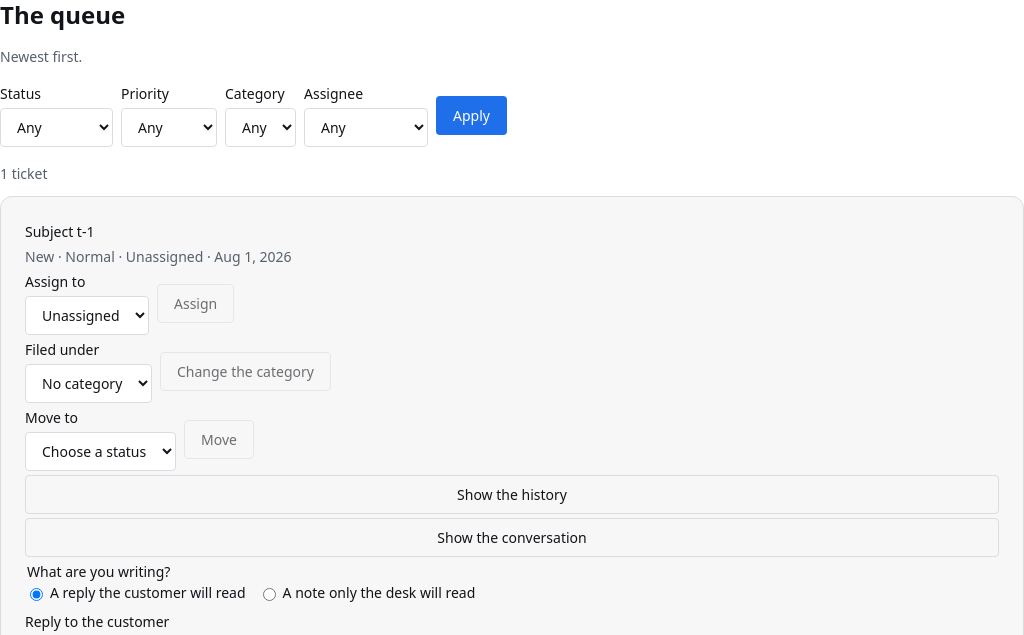
Scenario: a refusal from the machine is reported as itself
The image size is (1024, 635).
Expected: the text "Subject t-1" is shown, [25,222,94,241]
Select "Open" in the dropdown labelled "Move to" at (100, 452), box [25,432,176,471]
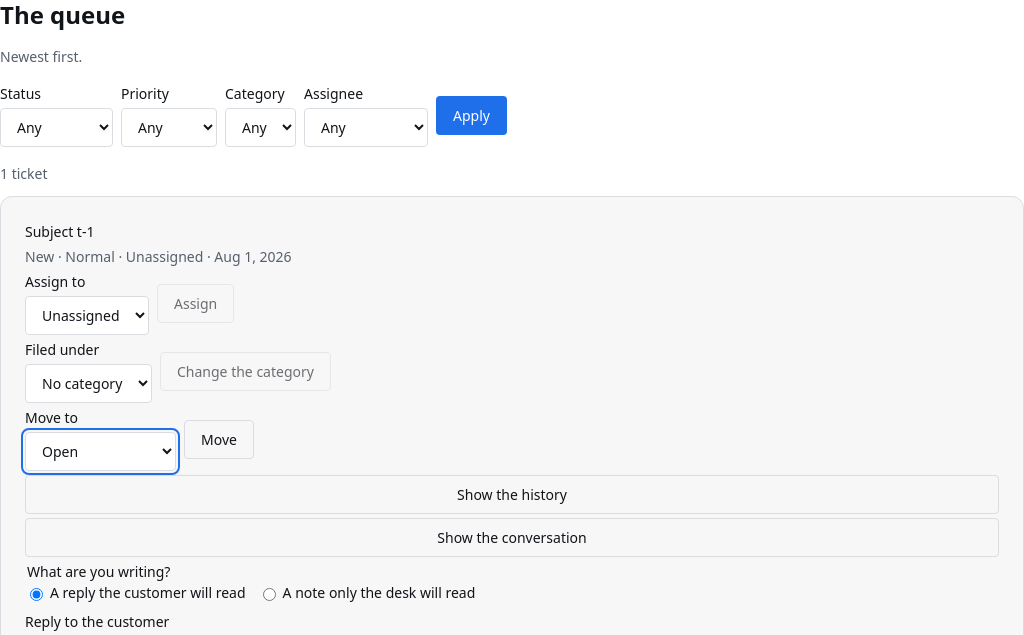
Click the button "Move" at (219, 439), box [184,420,254,458]
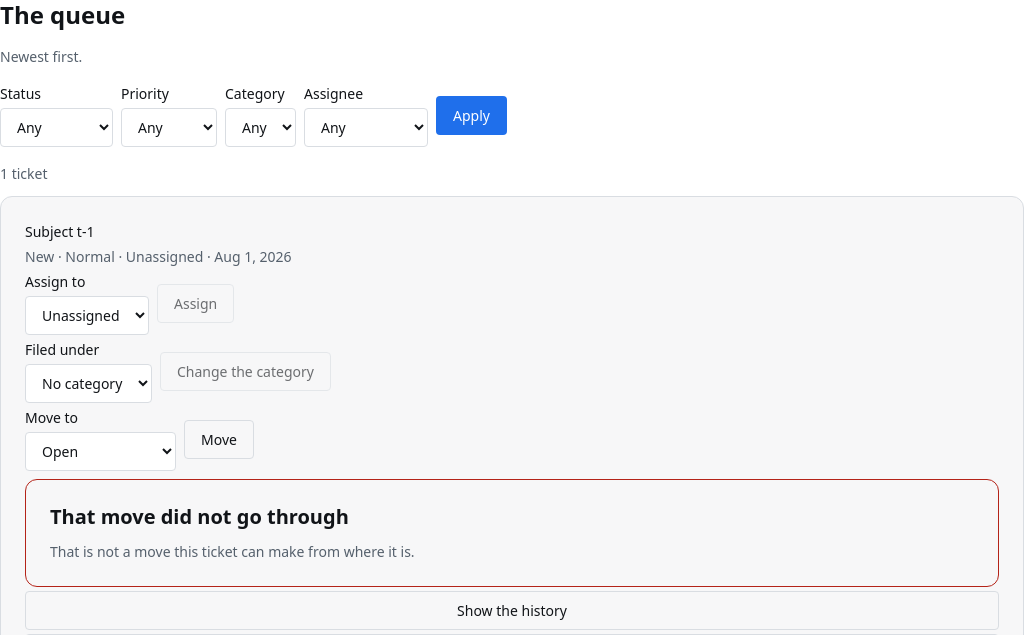
Expected: the heading "That move did not go through" is shown, [50,503,349,530]
Expected: the text "That is not a move this ticket can make from where it is." is shown, [50,542,415,561]
